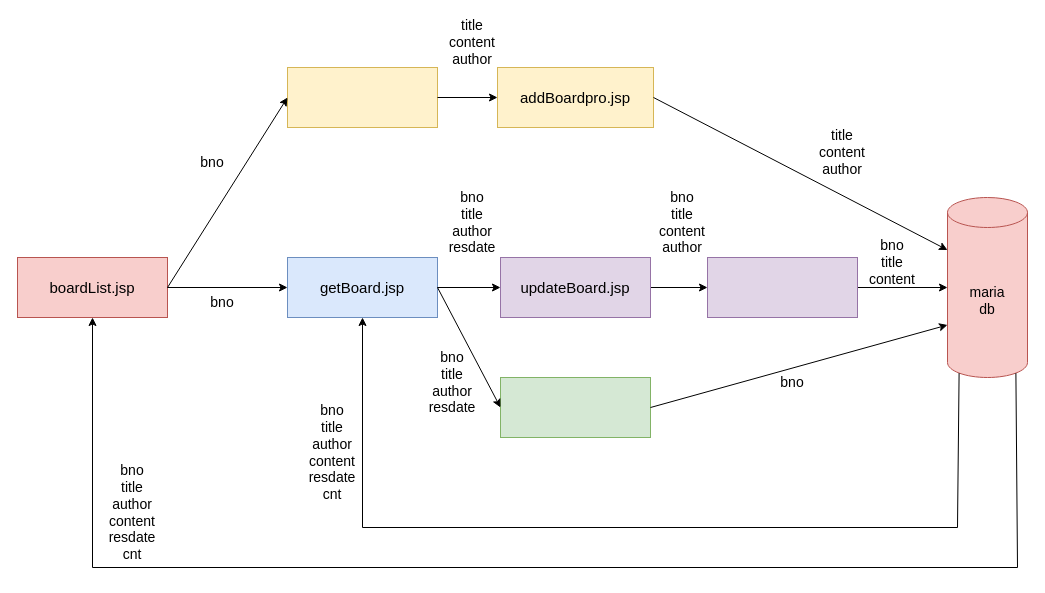
Image size: 1045x593. Some labels were removed from this diagram. Each missing label, with the centre of its shape:
"addBoard.jsp" belongs at (x=362, y=97).
"deleteBoardpro.jsp" belongs at (x=575, y=407).
"updateBoardpro.jsp" belongs at (x=782, y=287).
